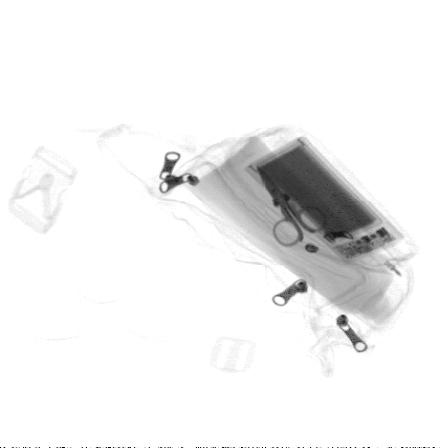Powerbank: (243, 136, 406, 266)
Scissors: (256, 163, 326, 248)
